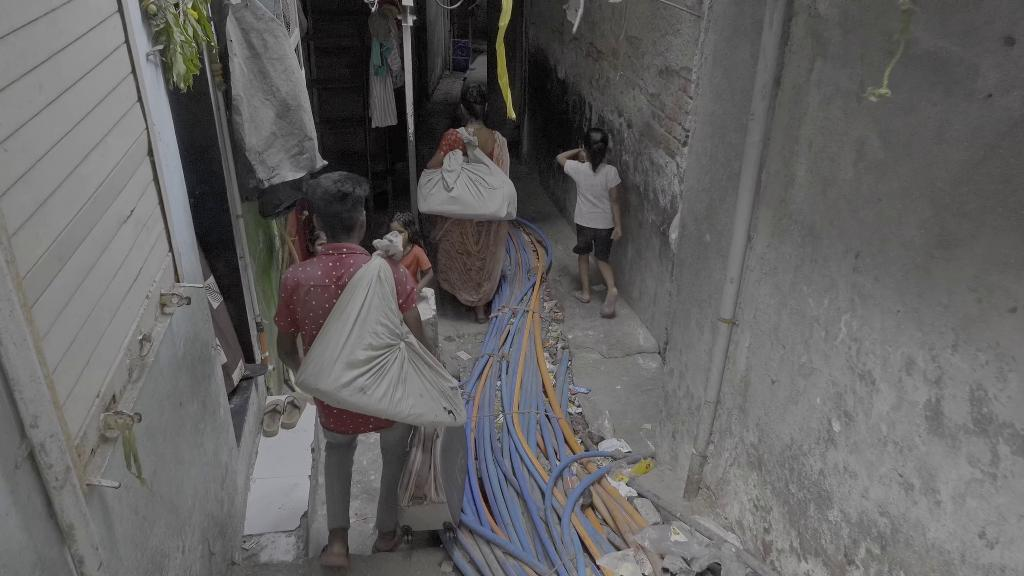garbage: (311, 249, 469, 430), (413, 129, 517, 218), (596, 432, 633, 460), (591, 410, 619, 443)
